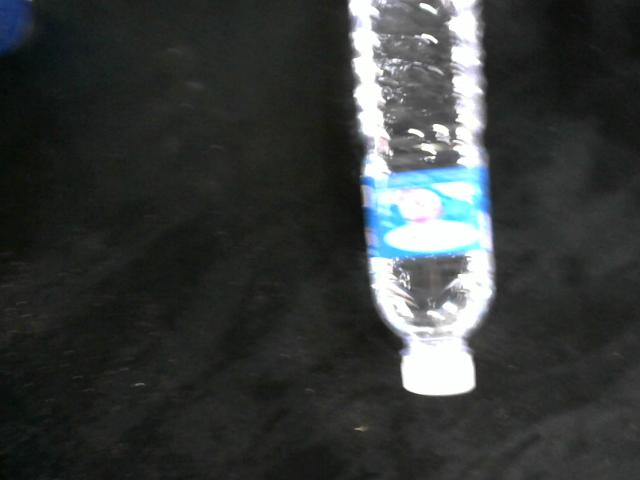bottle: (346, 0, 501, 398)
